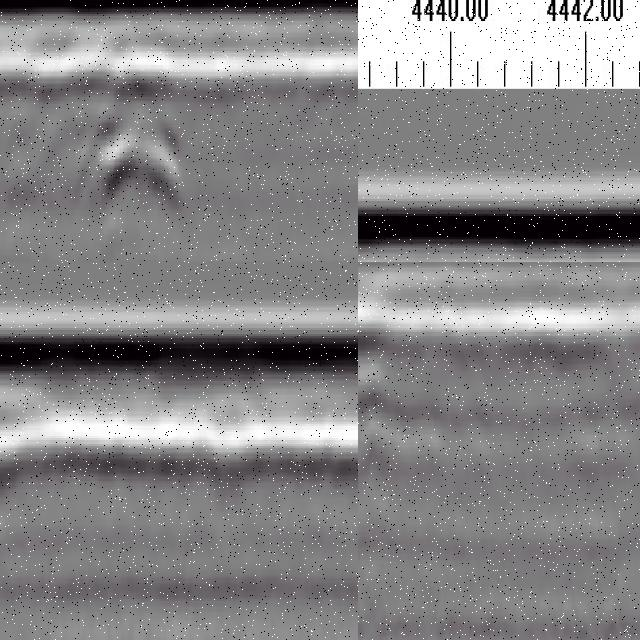loose: (1, 52, 182, 213)
